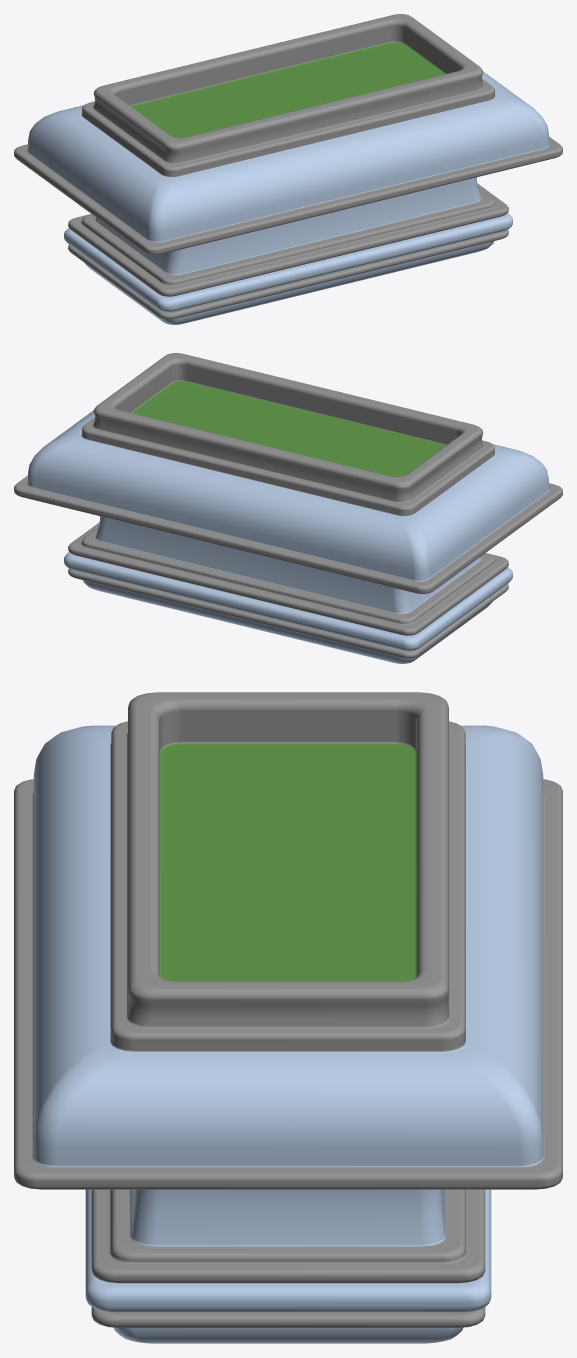
File: SM_Building_05_Part_04.fbx
The picture shows the model from 3 angles, top to bottom: view 1: azimuth 30°, elevation 25°; view 2: azimuth 150°, elevation 25°; view 3: azimuth 270°, elevation 25°; orthographic projection. The views are drawn at different scales.
Visible parts, largest first — view 1: SM_Building_05_Part_04; view 2: SM_Building_05_Part_04; view 3: SM_Building_05_Part_04.
Boxes of the visible parts, x1,y1,x2,y2 form: SM_Building_05_Part_04: (14, 14, 562, 324); SM_Building_05_Part_04: (14, 353, 562, 663); SM_Building_05_Part_04: (14, 692, 562, 1343).
Size of the model in its own units: 5121 by 2112 by 2977.
